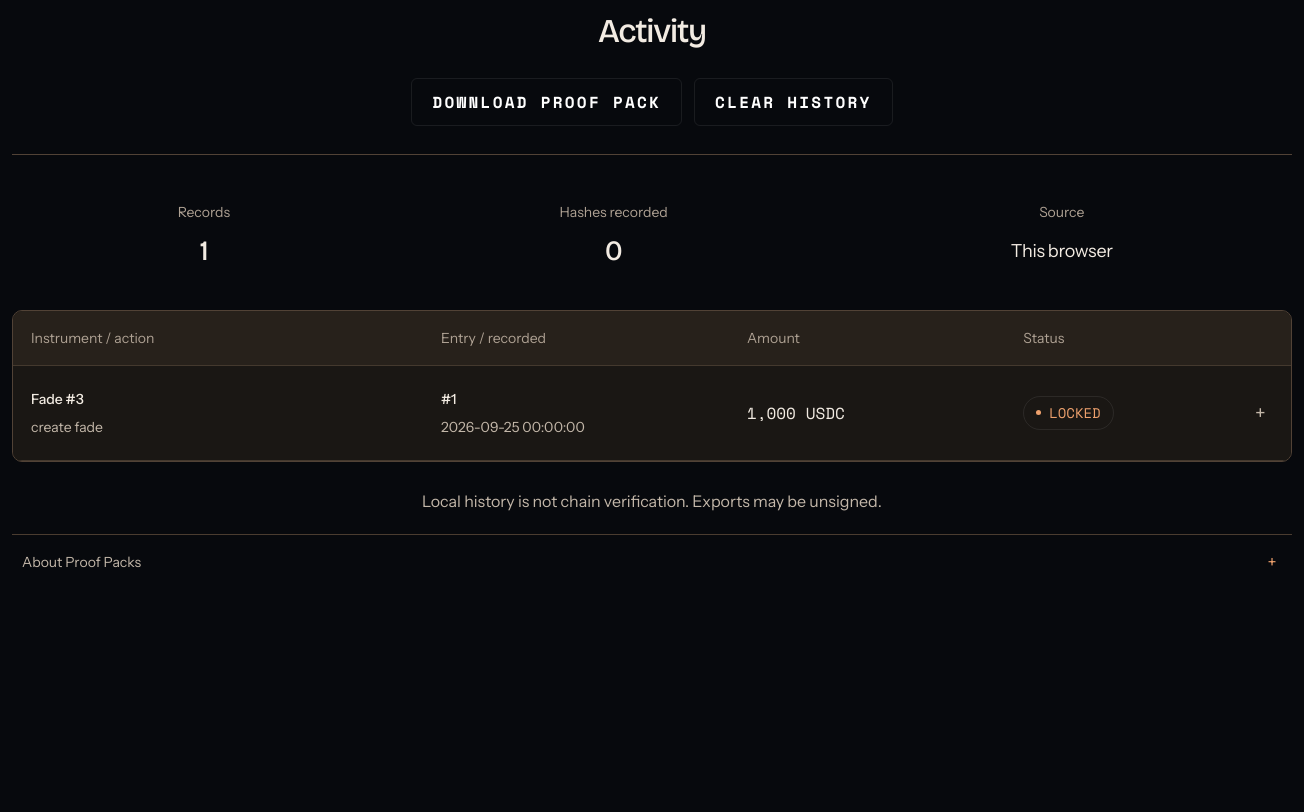
read-only instrument drafts › retains Ledger history and shows the clear error when its durable marker cannot be saved
Click the button "Clear history" at coordinates (793, 102), box x1=694 y1=78 x2=892 y2=126
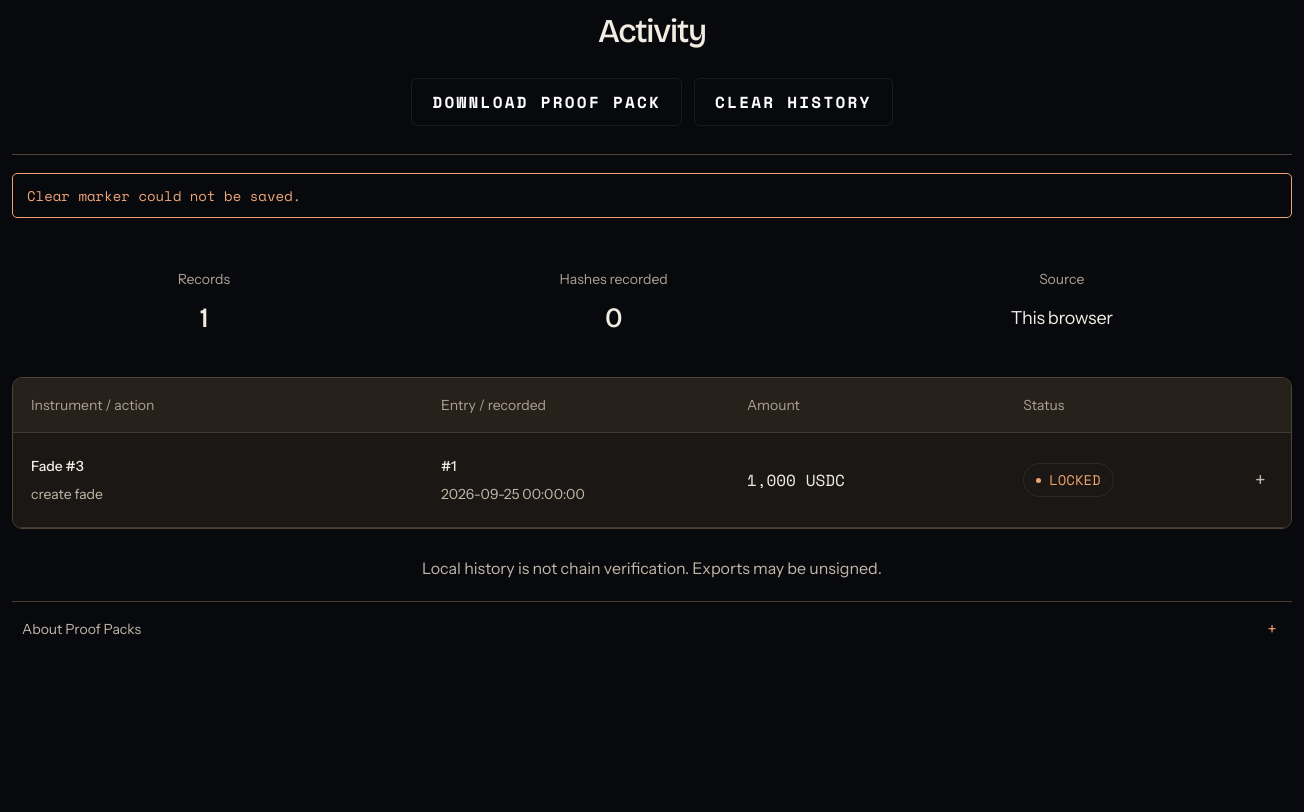
Expected: the text "1" is shown, x1=200 y1=301 x2=208 y2=335
Expected: the text "Clear marker could not be saved." is shown, x1=12 y1=173 x2=1292 y2=218
